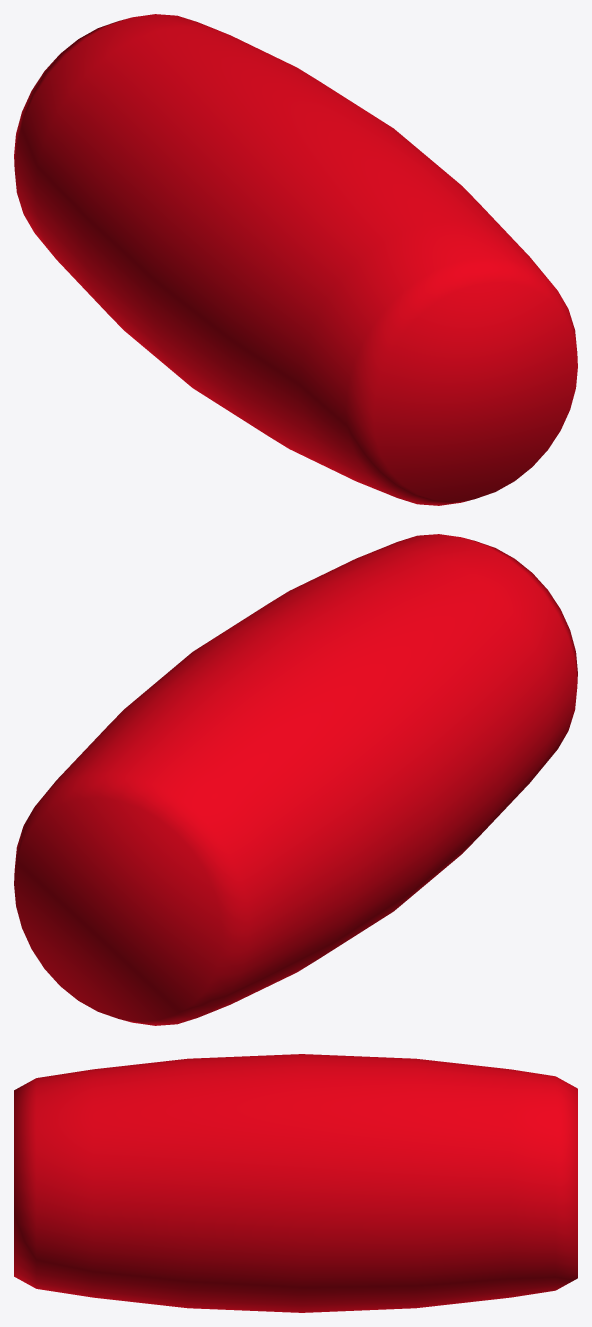
The model's file is handle2.fbx.
3 views of the same model, one above another, from view 1: azimuth 30°, elevation 25°; view 2: azimuth 150°, elevation 25°; view 3: azimuth 270°, elevation 25° (orthographic). The views are drawn at different scales.
Visible parts, largest first — view 1: handle2; view 2: handle2; view 3: handle2.
Part boxes in pixels (x1,y1,x2,y2): handle2: (14, 14, 577, 505); handle2: (14, 534, 577, 1025); handle2: (14, 1054, 577, 1312).
Size of the model in its own units: 0.0699 by 0.0699 by 0.1522.
